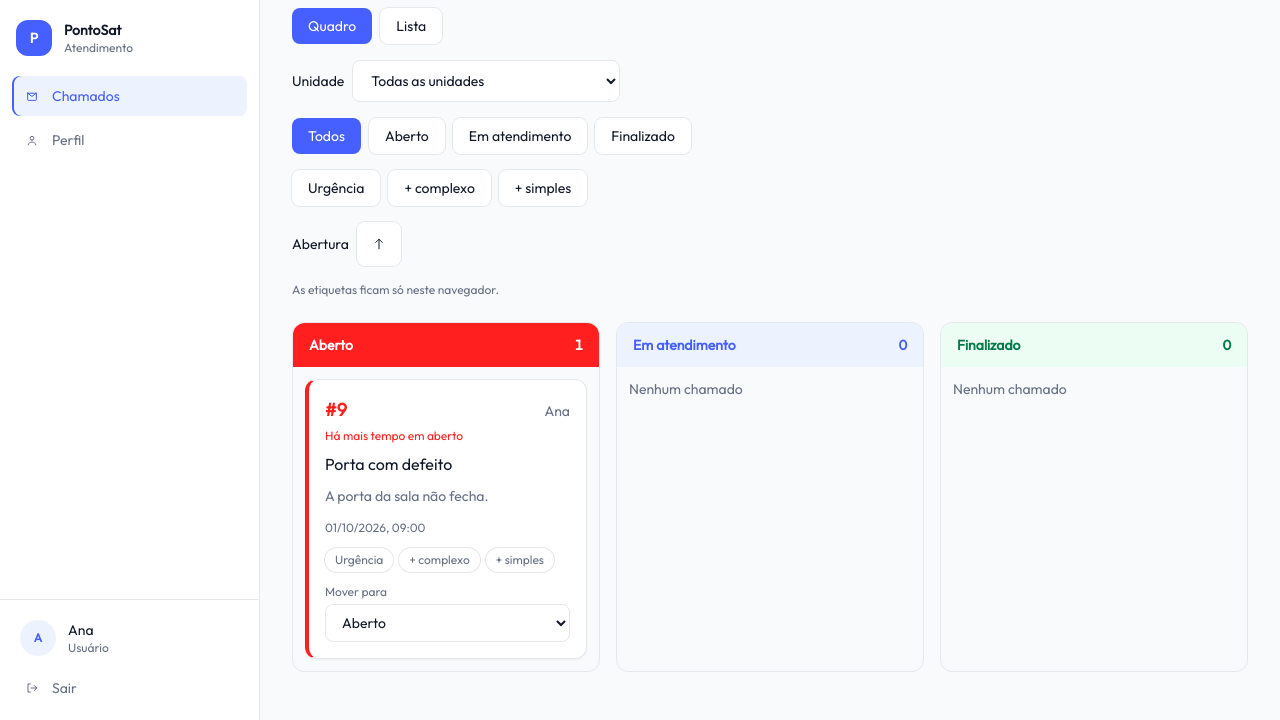
Test: quadro de chamados › devolve o card para a coluna anterior quando a mudança de status falha
(page scrolled)
Expected: the link "Porta com defeito" is shown, [325,454,452,474]
Select "Em atendimento" in the dropdown named "Mover Porta com defeito" at (448,623), box [325,604,570,642]
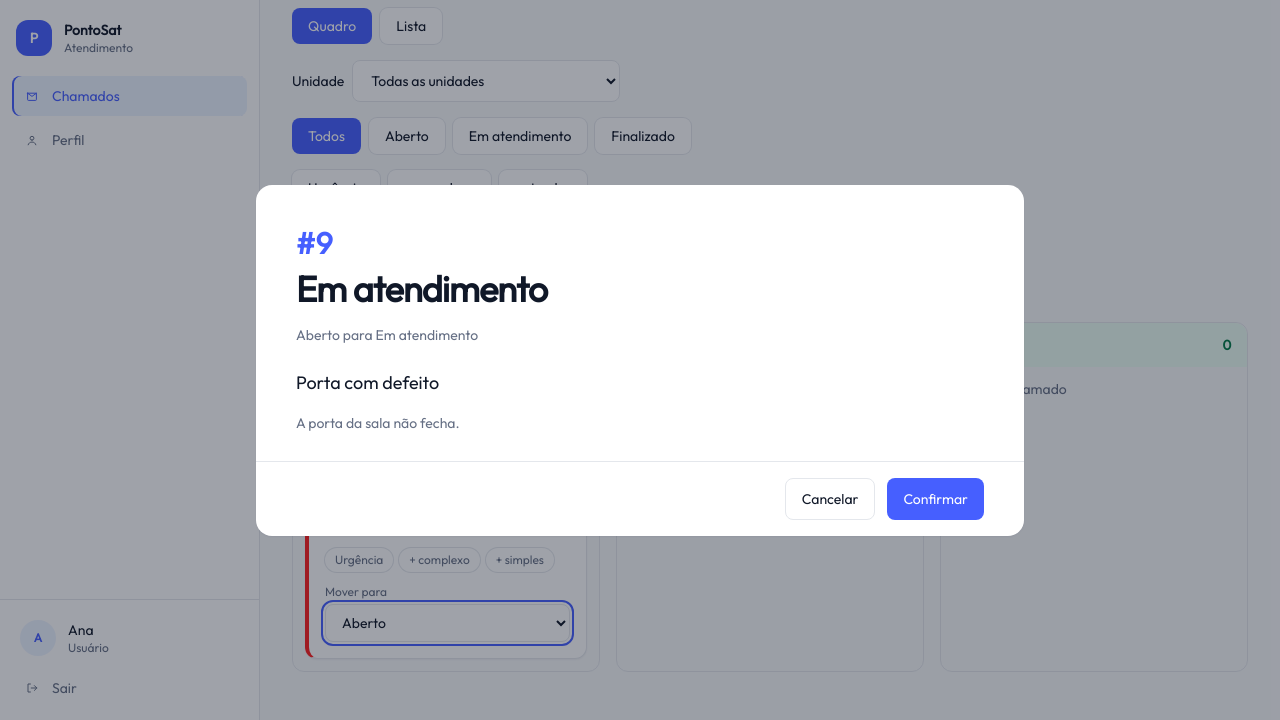
Click the button "Confirmar" at (936,498), box [887,478,984,520]
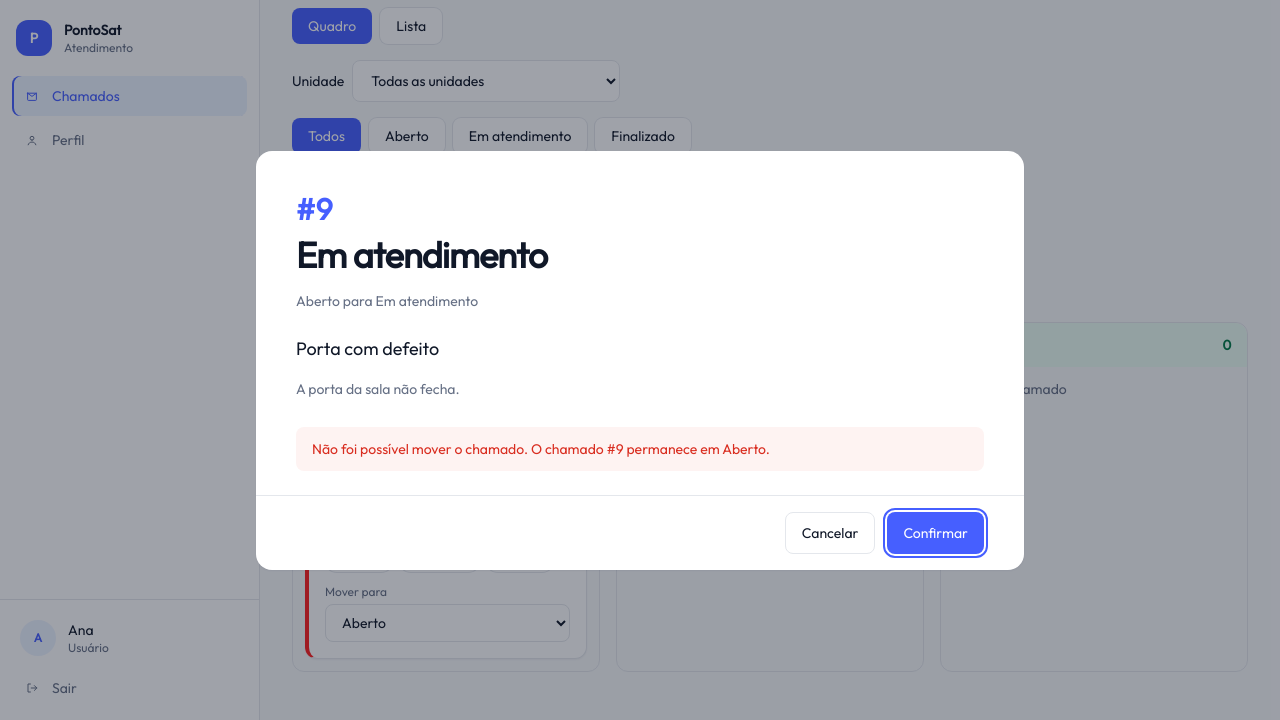
Now the dialog "Em atendimento" is shown, box [256,150,1024,570]
Now the message shows "Não foi possível mover o chamado.", box [312,440,528,458]
Now the message shows "permanece em Aberto", box [296,426,984,470]
